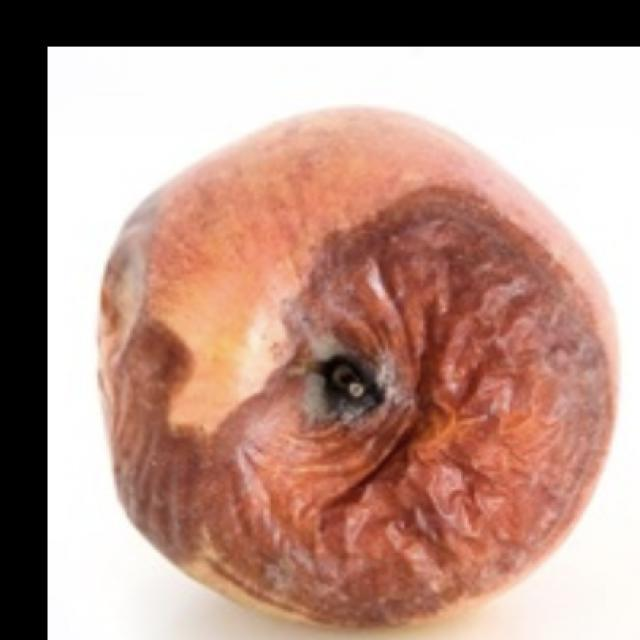Rotten: (104, 114, 604, 628)
